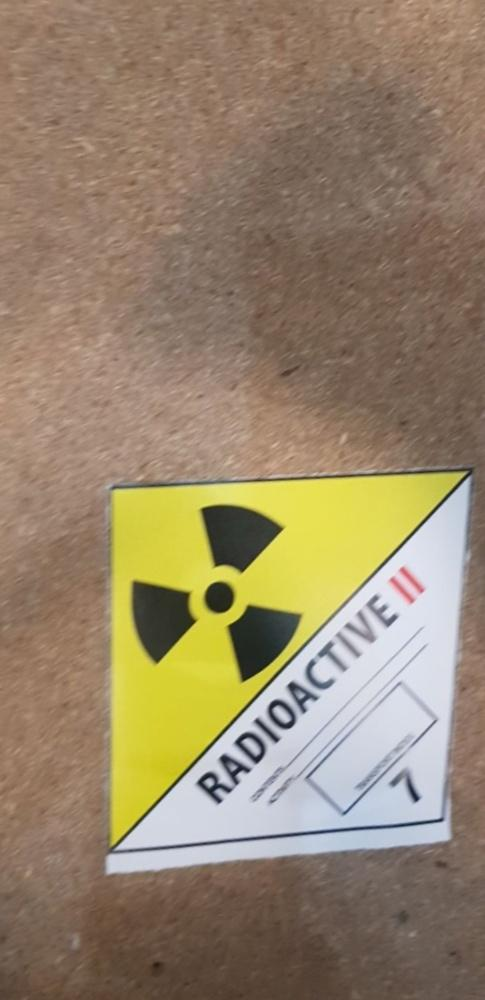radioactive: (106, 452, 469, 887)
